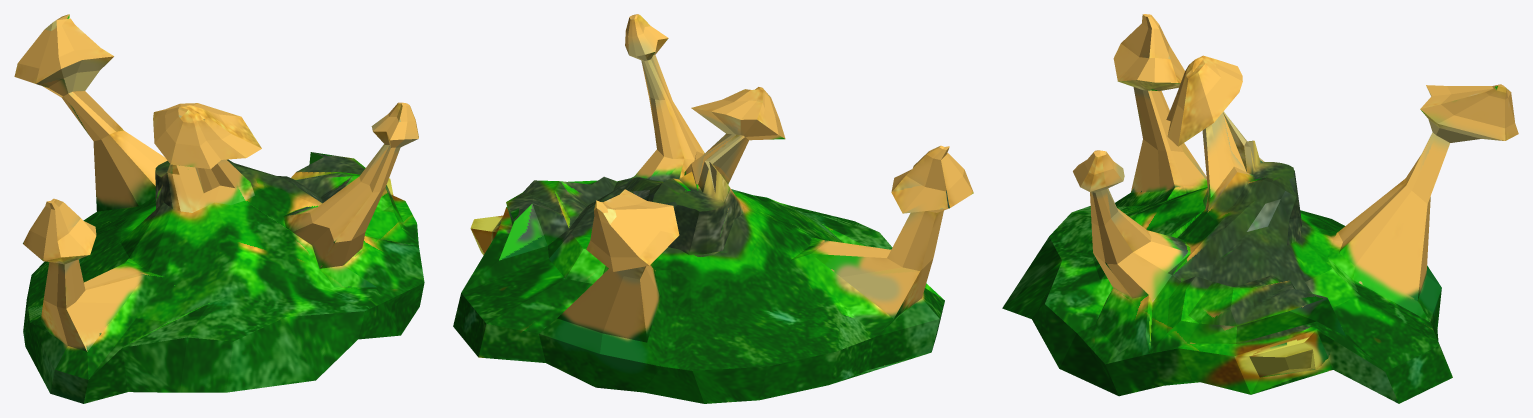
File: mushrooms2.glb
3 renders of one model, left to right at view 1: azimuth 30°, elevation 25°; view 2: azimuth 150°, elevation 25°; view 3: azimuth 270°, elevation 25°, orthographic. The views are drawn at different scales.
Visible parts, largest first — view 1: Cylinder; view 2: Cylinder; view 3: Cylinder.
Boxes of the visible parts, x1,y1,x2,y2 form: Cylinder: (14,14,424,403); Cylinder: (453,14,973,403); Cylinder: (1002,14,1518,403).
Bounding box in the file's own units: 1.8 × 0.9666 × 1.78.
1 material, 1 textured.
